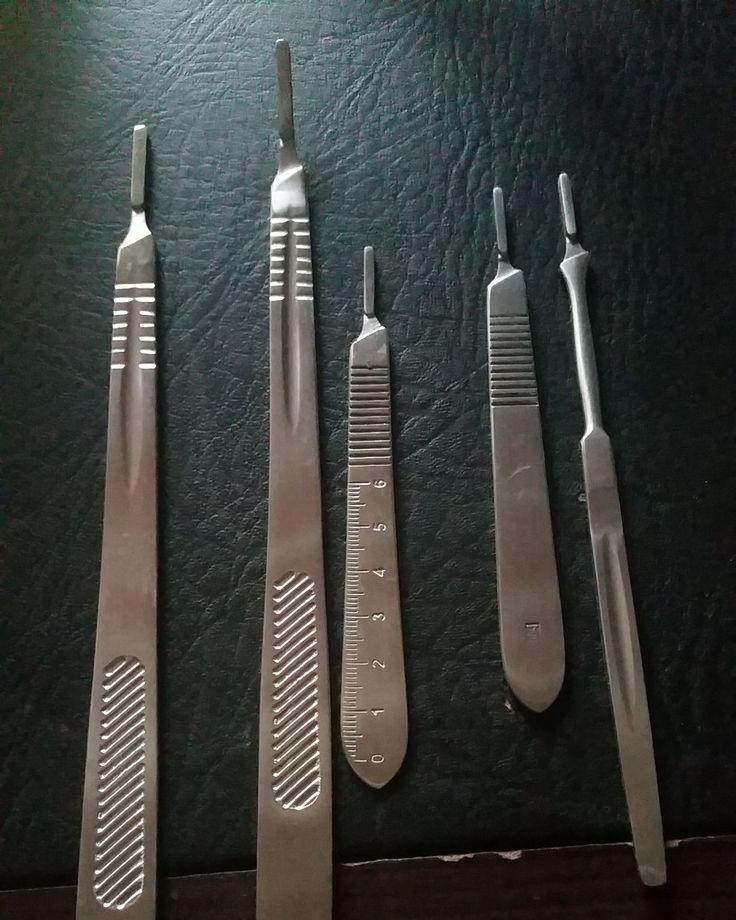Knife Handle: (57, 91, 197, 920), (236, 20, 350, 917), (561, 354, 693, 897), (459, 176, 554, 719), (333, 191, 419, 789)
